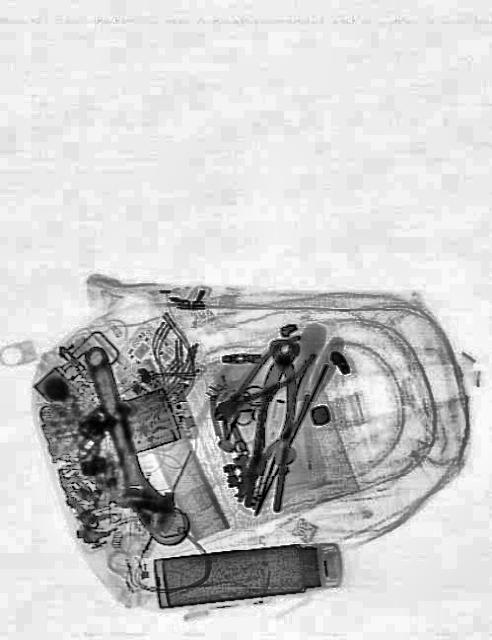Pliers: (204, 324, 318, 436), (243, 333, 308, 513)
Wrench: (66, 332, 180, 542)
